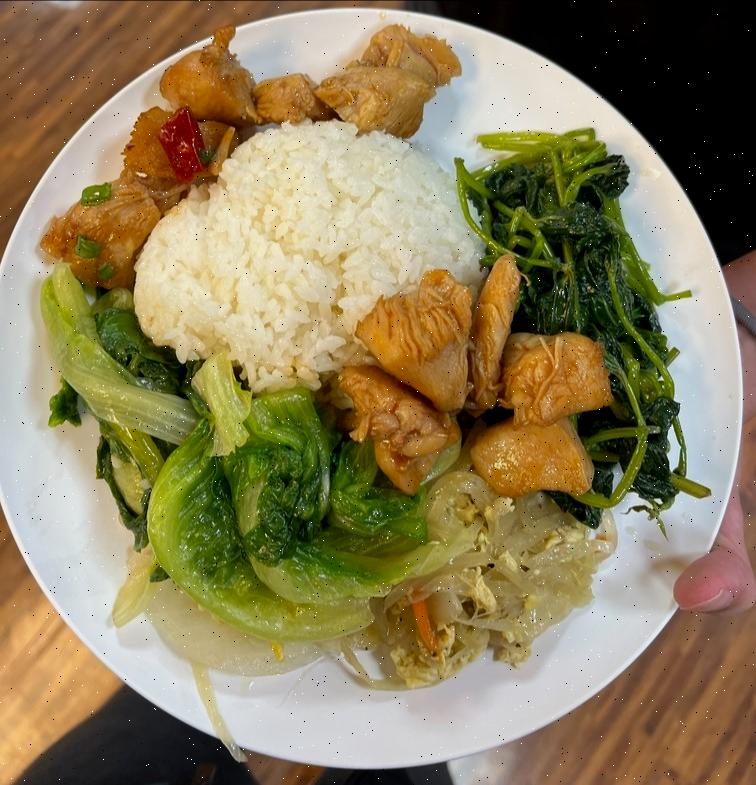big fried chicken leg: (0, 10, 756, 771)
big herbal chicken leg: (132, 124, 486, 392)
braised fish fillet: (32, 274, 422, 661), (475, 134, 687, 522), (372, 460, 610, 691)
braised pork: (43, 20, 611, 494)
